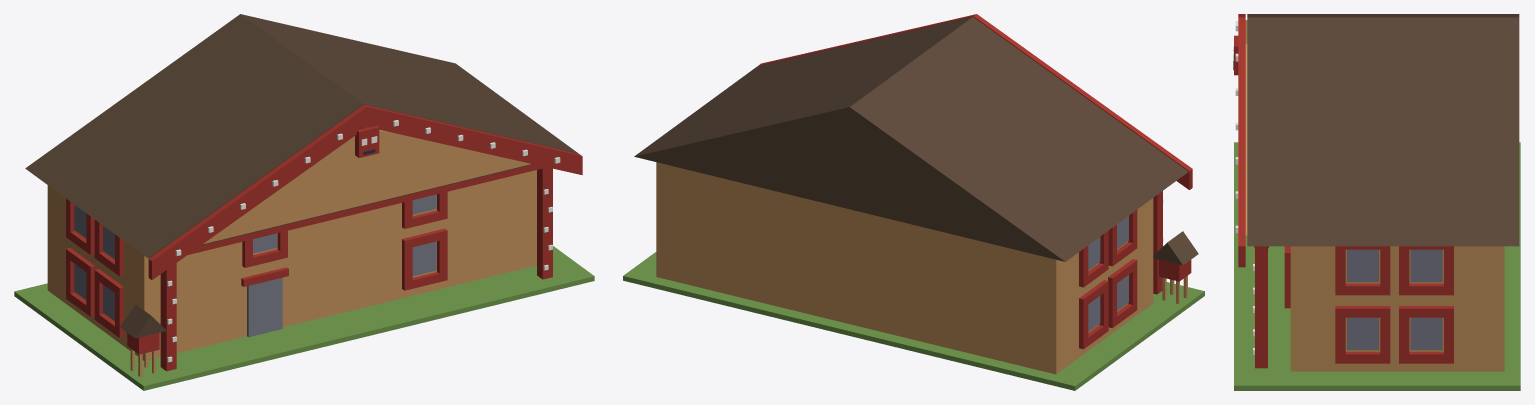
Rendered from house-2x1-2f-third-whare-a.glb.
The picture shows the model from 3 angles, left to right: view 1: azimuth 30°, elevation 25°; view 2: azimuth 150°, elevation 25°; view 3: azimuth 270°, elevation 25°; orthographic projection. The views are drawn at different scales.
Parts seen in each view (by area): view 1: house-2x1-2f-third-whare-a; view 2: house-2x1-2f-third-whare-a; view 3: house-2x1-2f-third-whare-a.
Boxes of the visible parts, bbox=[...] form: house-2x1-2f-third-whare-a: bbox=[14, 14, 594, 390]; house-2x1-2f-third-whare-a: bbox=[623, 14, 1204, 390]; house-2x1-2f-third-whare-a: bbox=[1233, 14, 1520, 390].
Size of the model in its own units: 2 by 0.96 by 0.993.
1 material, 1 textured.
